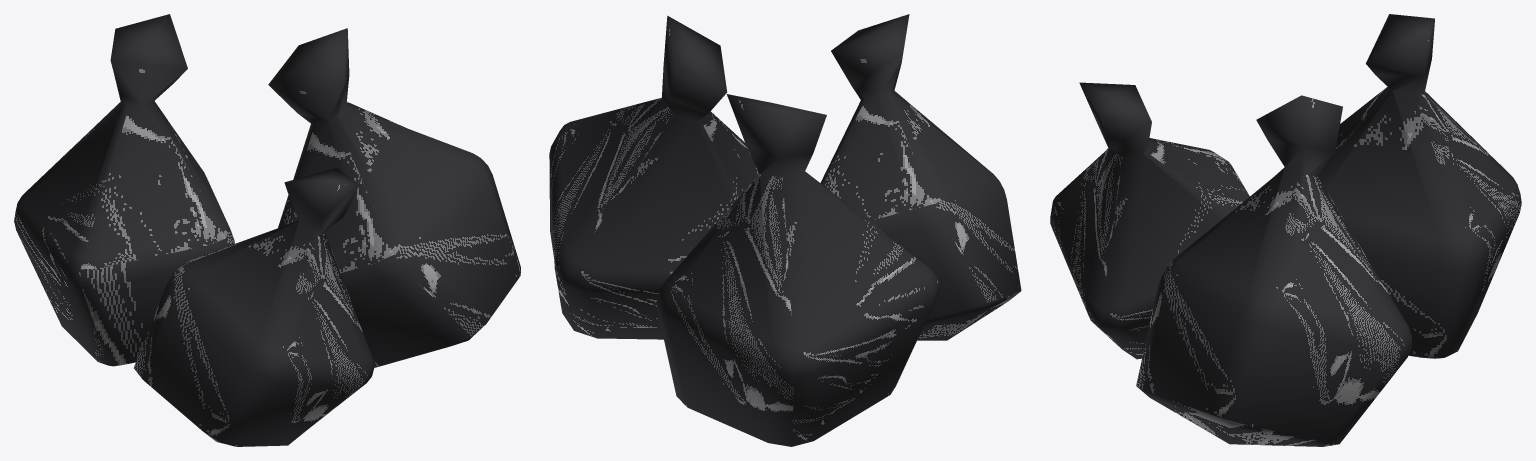
Rendered from Trashbags.glb.
3 renders of one model, left to right at view 1: azimuth 30°, elevation 25°; view 2: azimuth 150°, elevation 25°; view 3: azimuth 270°, elevation 25°, orthographic. The views are drawn at different scales.
Parts seen in each view (by area): view 1: Sphere.006, Sphere.005, Sphere.007; view 2: Sphere.007, Sphere.006, Sphere.005; view 3: Sphere.006, Sphere.007, Sphere.005.
Boxes of the visible parts, x1=… form: Sphere.006: x1=268, y1=28, x2=520, y2=367; Sphere.005: x1=134, y1=168, x2=374, y2=446; Sphere.007: x1=14, y1=14, x2=235, y2=366; Sphere.007: x1=657, y1=94, x2=939, y2=446; Sphere.006: x1=549, y1=15, x2=759, y2=339; Sphere.005: x1=820, y1=14, x2=1021, y2=340; Sphere.006: x1=1136, y1=95, x2=1412, y2=446; Sphere.007: x1=1318, y1=14, x2=1521, y2=358; Sphere.005: x1=1050, y1=82, x2=1249, y2=359.
Bounding box in the file's own units: 1.28 × 0.9678 × 1.25.
1 material, 1 textured.
